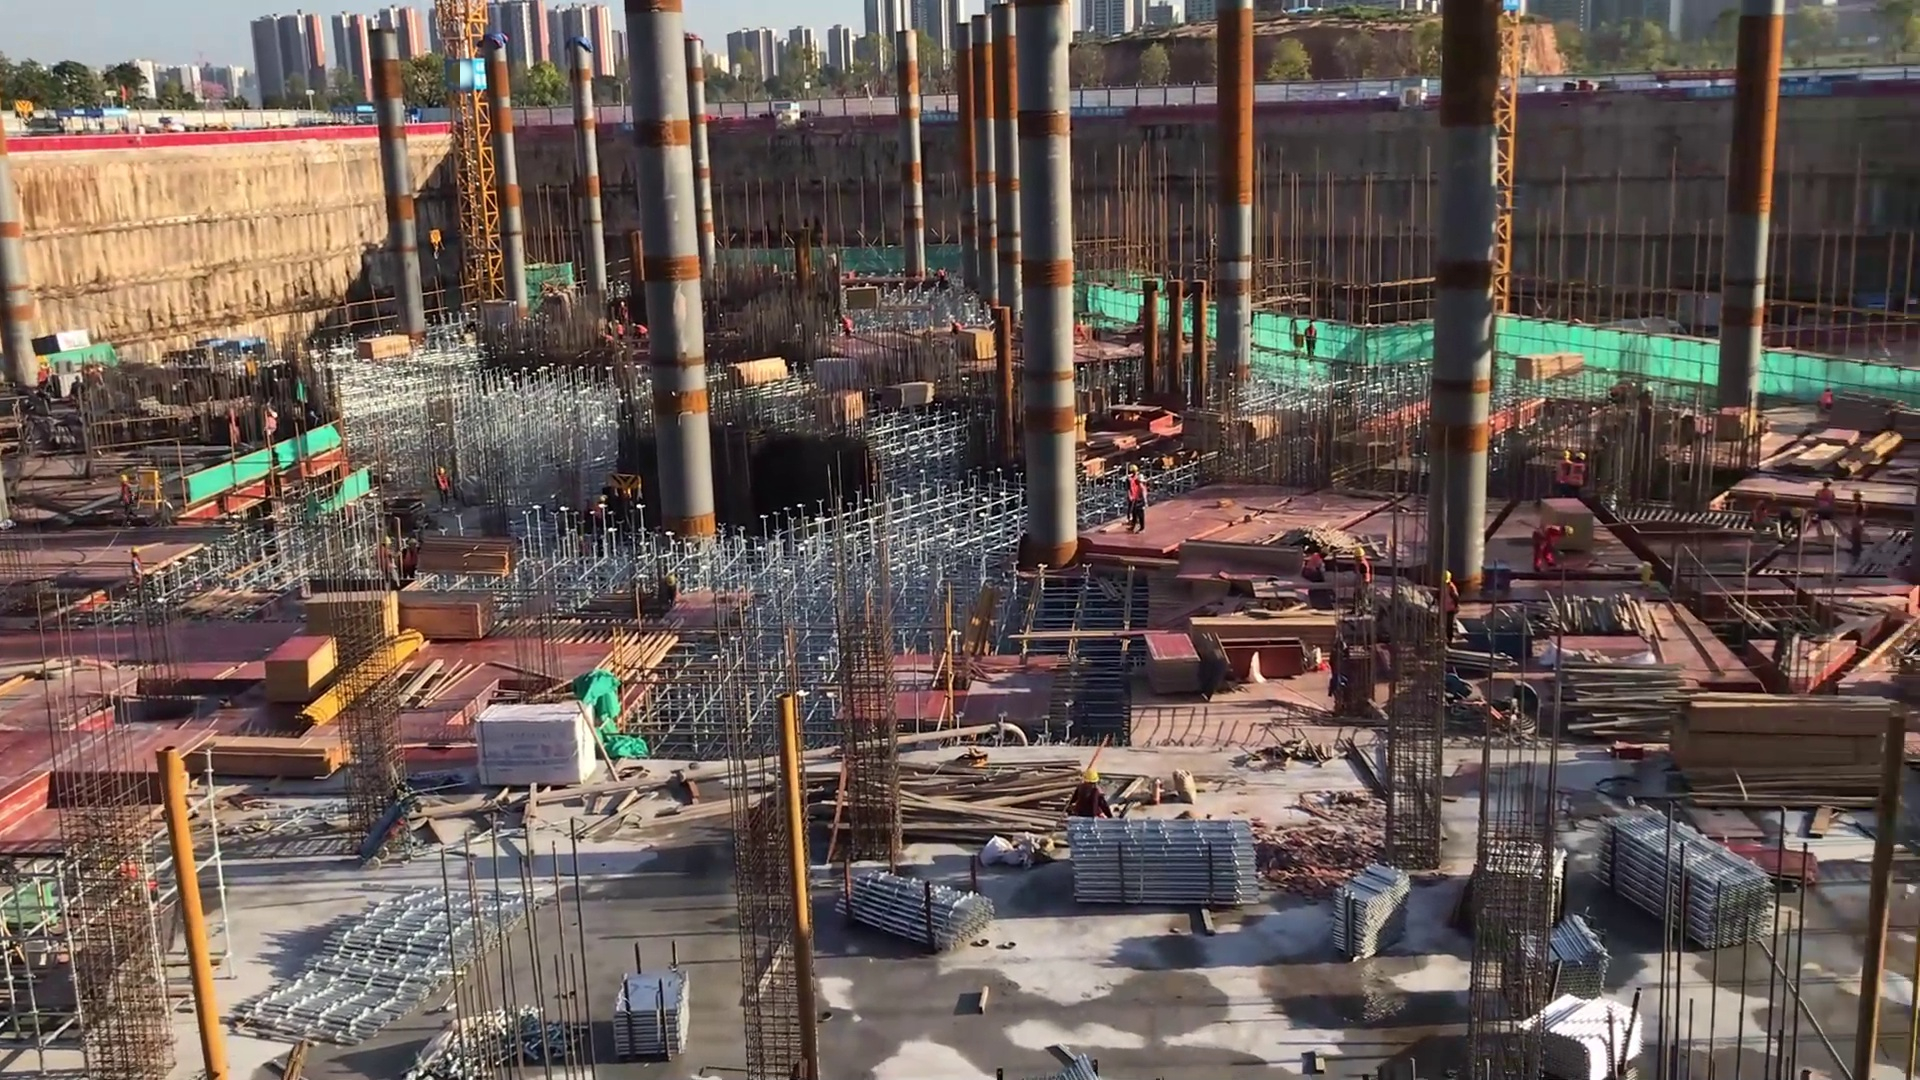board: (1716, 837, 1824, 900), (305, 587, 399, 650), (264, 632, 338, 706), (1142, 632, 1204, 699), (962, 326, 997, 361)
ebox: (138, 466, 168, 509)
helmet: (1352, 544, 1367, 563), (1563, 520, 1576, 540), (1441, 568, 1454, 587), (1084, 770, 1100, 785), (404, 537, 422, 548), (1136, 472, 1148, 488), (117, 474, 132, 485), (438, 466, 449, 477), (1321, 542, 1331, 555), (270, 408, 277, 421), (1130, 463, 1138, 473)
hook: (605, 469, 654, 512), (419, 224, 461, 269), (11, 87, 41, 135)
hopper: (30, 322, 89, 360)
person: (1532, 515, 1581, 583), (1064, 768, 1113, 830), (1434, 567, 1467, 645), (392, 535, 426, 598), (1808, 471, 1834, 543), (1848, 491, 1867, 586), (1125, 482, 1154, 545), (1751, 489, 1781, 544), (1351, 542, 1372, 619), (1301, 544, 1333, 590), (115, 472, 138, 524), (127, 545, 146, 604), (1299, 323, 1322, 368), (1571, 449, 1588, 501), (435, 463, 454, 511), (264, 401, 280, 450), (1558, 451, 1573, 500), (1125, 463, 1139, 515), (832, 312, 858, 337), (1821, 382, 1835, 419), (632, 318, 653, 341), (614, 321, 630, 345), (949, 316, 966, 338), (620, 298, 632, 325)
scaffold: (1595, 801, 1773, 967), (1072, 817, 1276, 920), (823, 864, 993, 948), (1504, 910, 1621, 1018), (1333, 855, 1420, 967)
slogan: (1068, 106, 1129, 115), (921, 111, 960, 123)
vest: (1069, 787, 1107, 822), (1533, 520, 1562, 551), (1439, 585, 1462, 618), (1815, 488, 1834, 518), (1307, 552, 1326, 581), (401, 547, 421, 575), (1354, 558, 1373, 587), (1752, 498, 1768, 532), (1850, 501, 1865, 536), (1573, 461, 1586, 488), (437, 476, 450, 498), (1559, 461, 1571, 485)
wood: (1662, 685, 1893, 814), (909, 756, 1081, 834), (1553, 658, 1685, 744), (197, 733, 341, 781), (1184, 614, 1343, 656), (397, 588, 492, 643), (415, 535, 516, 583), (1514, 351, 1588, 384), (727, 356, 791, 390), (358, 331, 414, 367), (878, 381, 937, 413)
